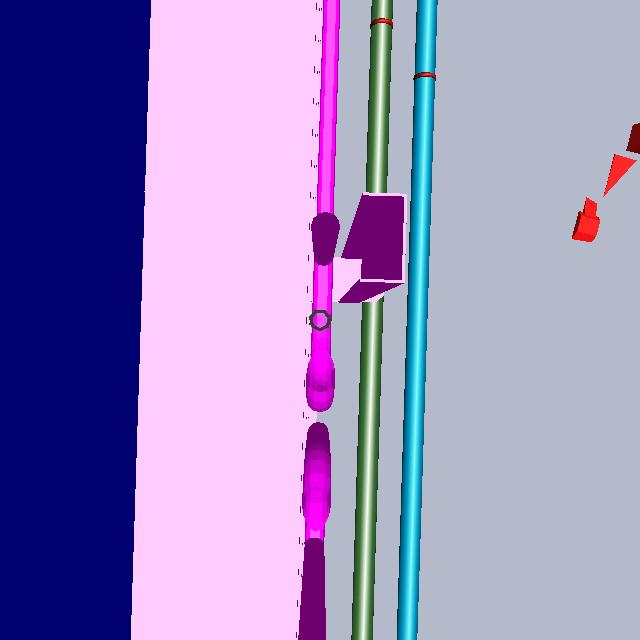Gabinete: (313, 184, 415, 319)
Poste: (306, 304, 338, 341)
